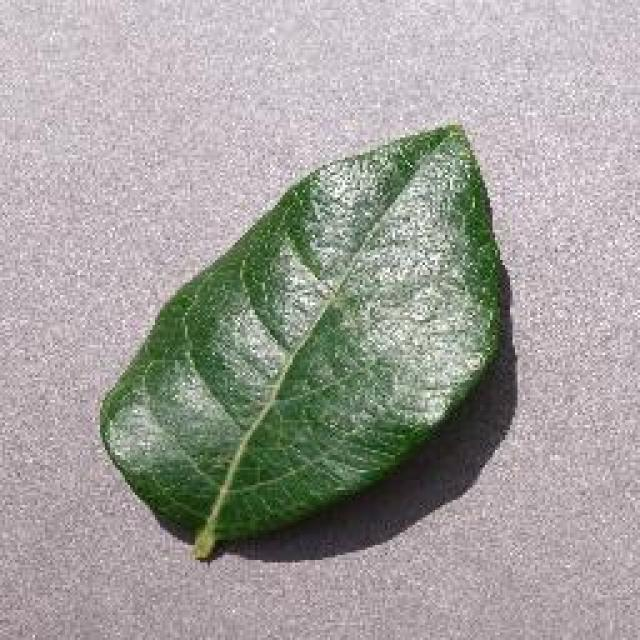Blu_healthy: (185, 220, 464, 456)
